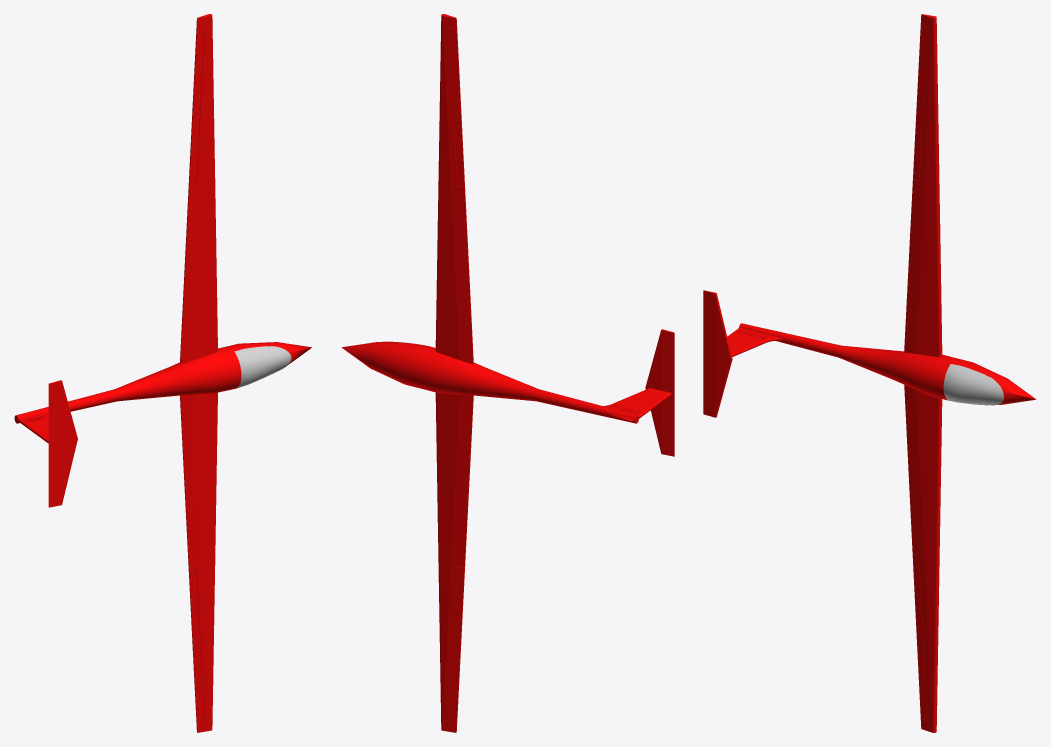
The model's file is Planeur_CUISSARD_Mathieu.obj.
The picture shows the model from 3 angles, left to right: view 1: azimuth 30°, elevation 25°; view 2: azimuth 150°, elevation 25°; view 3: azimuth 330°, elevation 25°; orthographic projection.
Parts seen in each view (by area): view 1: Planeur_CUISSARD_Mathieu, Planeur_CUISSARD_Mathieu-3, Planeur_CUISSARD_Mathieu-1, Planeur_CUISSARD_Mathieu-2; view 2: Planeur_CUISSARD_Mathieu, Planeur_CUISSARD_Mathieu-1, Planeur_CUISSARD_Mathieu-2; view 3: Planeur_CUISSARD_Mathieu, Planeur_CUISSARD_Mathieu-3, Planeur_CUISSARD_Mathieu-1, Planeur_CUISSARD_Mathieu-2.
Part boxes in pixels (x1,y1,x2,y2): Planeur_CUISSARD_Mathieu: [14, 14, 311, 732]; Planeur_CUISSARD_Mathieu-3: [234, 346, 291, 388]; Planeur_CUISSARD_Mathieu-1: [188, 28, 204, 186]; Planeur_CUISSARD_Mathieu-2: [188, 567, 204, 722]; Planeur_CUISSARD_Mathieu: [341, 14, 674, 732]; Planeur_CUISSARD_Mathieu-1: [449, 28, 464, 186]; Planeur_CUISSARD_Mathieu-2: [449, 567, 464, 722]; Planeur_CUISSARD_Mathieu: [703, 14, 1036, 732]; Planeur_CUISSARD_Mathieu-3: [943, 364, 1003, 405]; Planeur_CUISSARD_Mathieu-1: [913, 25, 926, 180]; Planeur_CUISSARD_Mathieu-2: [913, 560, 926, 719].
Bounding box in the file's own units: 6560 × 15000 × 1756.
